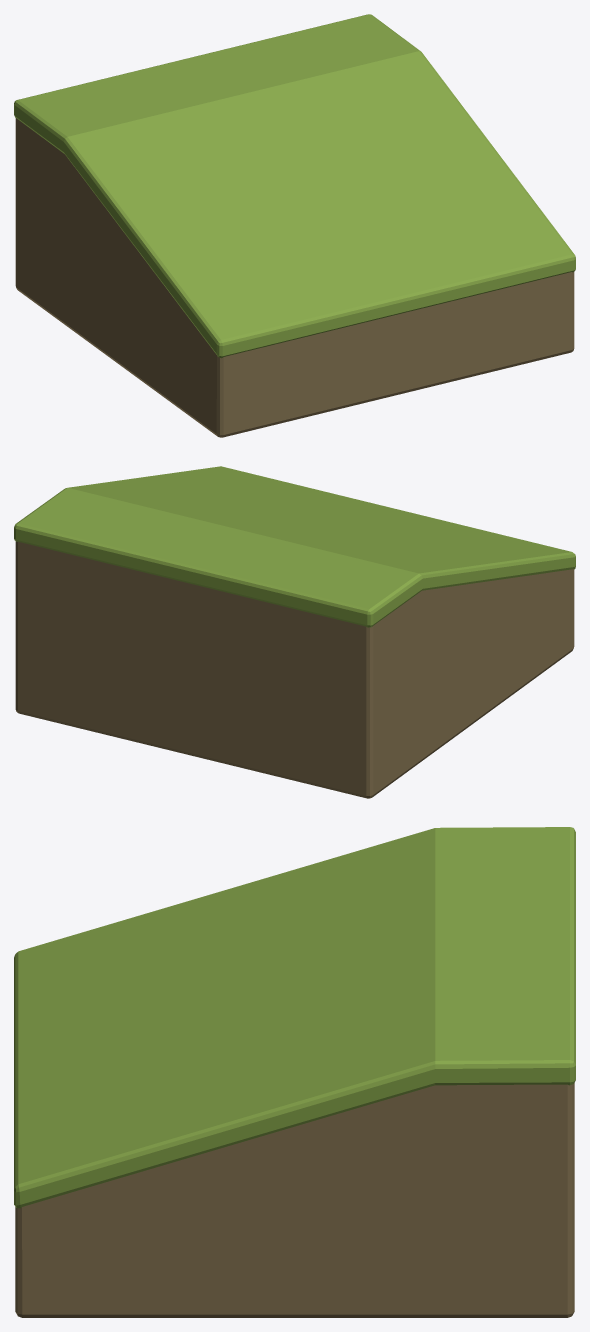
The model's file is SM_Platform_4m_03_A_Ramp.fbx.
3 views of the same model, one above another, from view 1: azimuth 30°, elevation 25°; view 2: azimuth 150°, elevation 25°; view 3: azimuth 270°, elevation 25° (orthographic). The views are drawn at different scales.
Parts seen in each view (by area): view 1: polySurface101; view 2: polySurface101; view 3: polySurface101.
Boxes of the visible parts, <box> form: polySurface101: <box>14,14,575,437</box>; polySurface101: <box>14,466,575,798</box>; polySurface101: <box>14,827,575,1317</box>.
Size of the model in its own units: 404 by 205 by 403.
